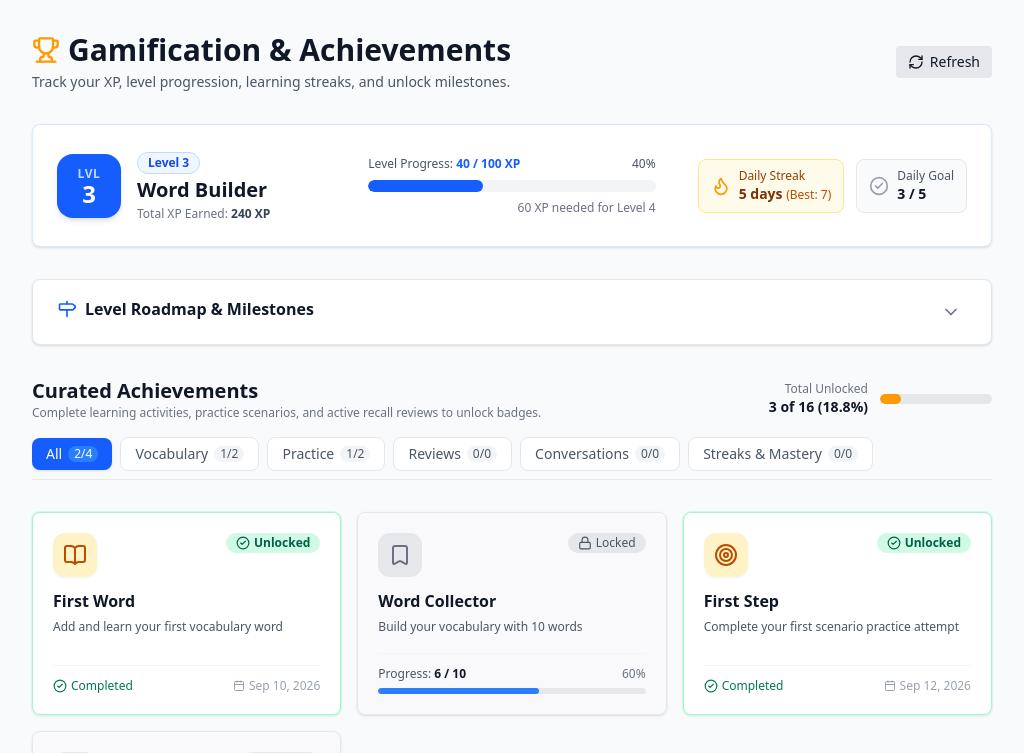
Scenario: AchievementsPage › toggles level roadmap drawer to inspect all levels
This screenshot has width=1024, height=753.
Expected: the text "Vocabulary Apprentice" is not shown
Click to expand roadmap
Click the heading "Level Roadmap & Milestones" at (199, 309), box [85,297,314,321]
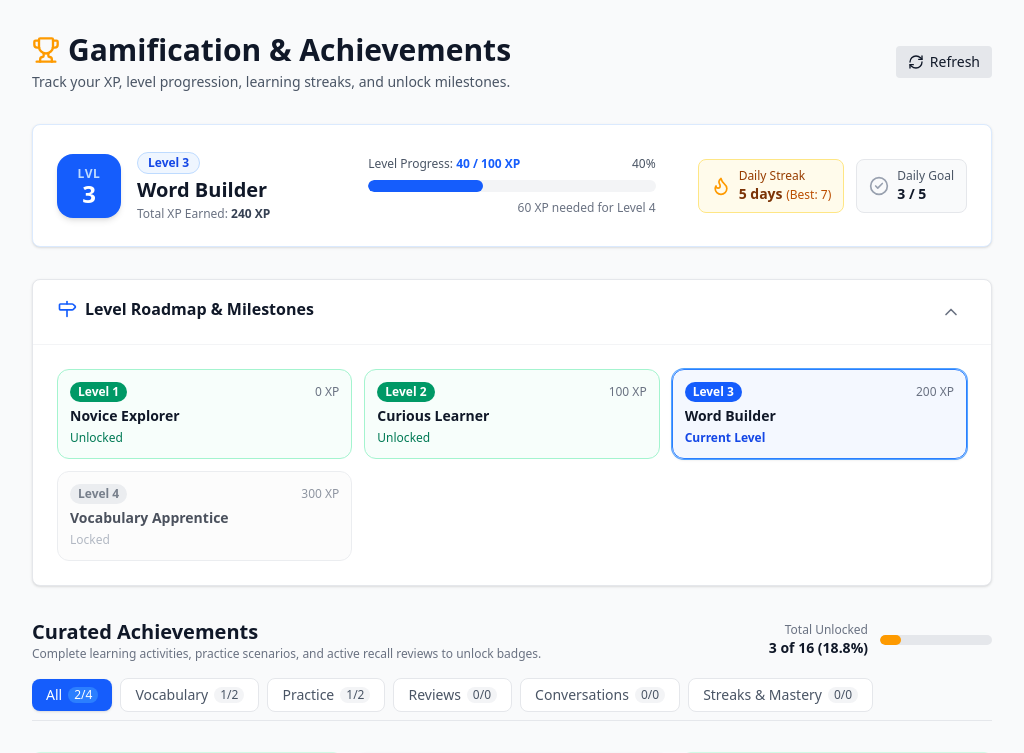
Expected: the text "Novice Explorer" is shown, [70,406,180,425]
Expected: the text "Curious Learner" is shown, [377,406,489,425]
Expected: the text "Vocabulary Apprentice" is shown, [70,508,229,527]
